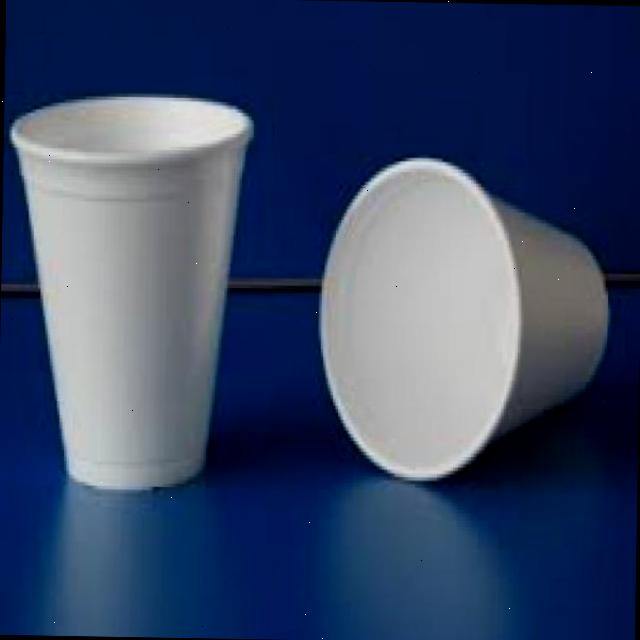trash: (0, 87, 251, 491), (308, 149, 608, 484)
